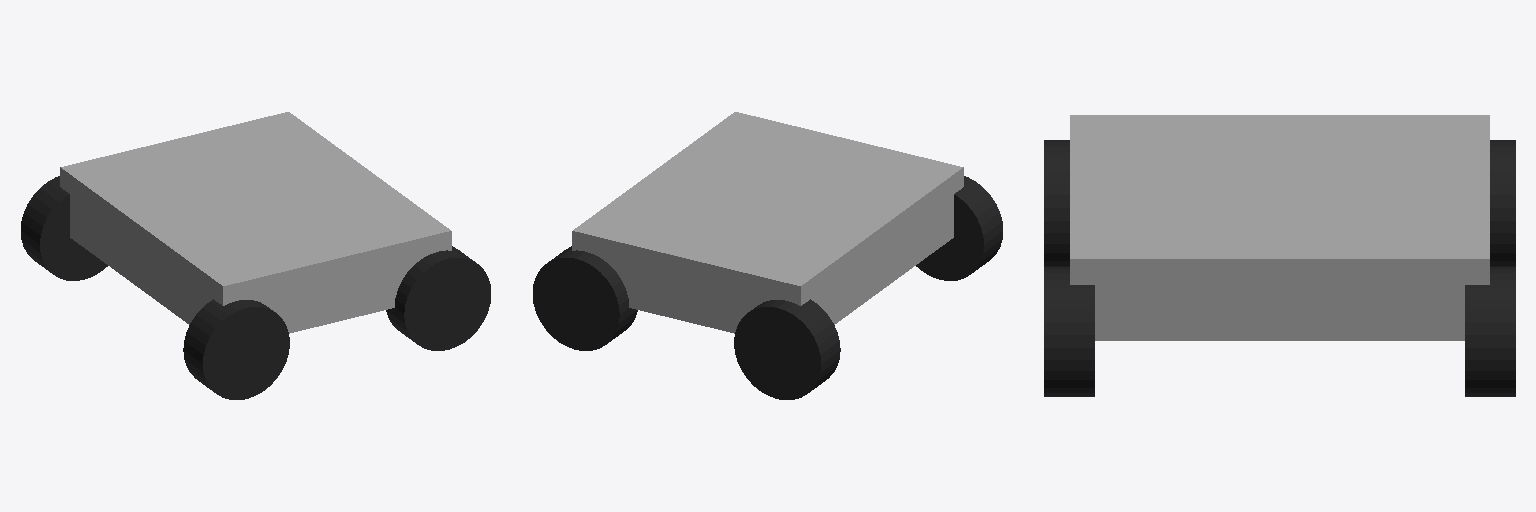
robot.urdf — evolved_robot:
<?xml version="1.0"?>
<robot name="evolved_robot">
  <material name="metal">
    <color rgba="0.7 0.7 0.7 1.0"/>
  </material>
  <material name="plastic">
    <color rgba="0.3 0.3 0.9 1.0"/>
  </material>
  <material name="rubber">
    <color rgba="0.1 0.1 0.1 1.0"/>
  </material>
  <material name="red">
    <color rgba="1.0 0.0 0.0 1.0"/>
  </material>
  <material name="wheel_material">
    <color rgba="0.2 0.2 0.2 1.0"/>
  </material>
  <link name="base_link">
    <visual>
      <geometry><box size="0.33999999999999997 0.42000000000000004 0.09000000000000001"/></geometry>
      <material name="metal"/>
    </visual>
    <collision>
      <geometry><box size="0.33999999999999997 0.42000000000000004 0.09000000000000001"/></geometry>
    </collision>
    <inertial>
      <mass value="5.0"/>
      <inertia ixx="0.15375000000000003" ixy="0" ixz="0" 
               iyy="0.1030833333333333" iyz="0" 
               izz="0.24333333333333337"/>
    </inertial>
  </link>
  <link name="link1">
    <visual>
      <geometry>
        <cylinder radius="0.065" length="0.05"/>
      </geometry>
      <material name="wheel_material"/>
    </visual>
    <collision>
      <geometry>
        <cylinder radius="0.065" length="0.05"/>
      </geometry>
    </collision>
    <inertial>
      <mass value="1.0"/>
      <inertia ixx="0.0012645833333333335" ixy="0" ixz="0" 
               iyy="0.0012645833333333335" iyz="0" 
               izz="0.0021125000000000002"/>
    </inertial>
  </link>
  <joint name="joint1" type="continuous">
    <parent link="base_link"/>
    <child link="link1"/>
    <origin xyz="0.15 0.21000000000000002 -0.045000000000000005" rpy="1.5708 0 0"/>
    <axis xyz="0 1 0"/>
    <dynamics damping="1.0" friction="0.1"/>
  </joint>
  <link name="link2">
    <visual>
      <geometry>
        <cylinder radius="0.065" length="0.05"/>
      </geometry>
      <material name="wheel_material"/>
    </visual>
    <collision>
      <geometry>
        <cylinder radius="0.065" length="0.05"/>
      </geometry>
    </collision>
    <inertial>
      <mass value="1.0"/>
      <inertia ixx="0.0012645833333333335" ixy="0" ixz="0" 
               iyy="0.0012645833333333335" iyz="0" 
               izz="0.0021125000000000002"/>
    </inertial>
  </link>
  <joint name="joint2" type="continuous">
    <parent link="base_link"/>
    <child link="link2"/>
    <origin xyz="0.15 -0.21000000000000002 -0.045000000000000005" rpy="1.5708 0 0"/>
    <axis xyz="0 1 0"/>
    <dynamics damping="1.0" friction="0.1"/>
  </joint>
  <link name="link3">
    <visual>
      <geometry>
        <cylinder radius="0.065" length="0.05"/>
      </geometry>
      <material name="wheel_material"/>
    </visual>
    <collision>
      <geometry>
        <cylinder radius="0.065" length="0.05"/>
      </geometry>
    </collision>
    <inertial>
      <mass value="1.0"/>
      <inertia ixx="0.0012645833333333335" ixy="0" ixz="0" 
               iyy="0.0012645833333333335" iyz="0" 
               izz="0.0021125000000000002"/>
    </inertial>
  </link>
  <joint name="joint3" type="continuous">
    <parent link="base_link"/>
    <child link="link3"/>
    <origin xyz="-0.15 0.21000000000000002 -0.045000000000000005" rpy="1.5708 0 0"/>
    <axis xyz="0 1 0"/>
    <dynamics damping="1.0" friction="0.1"/>
  </joint>
  <link name="link4">
    <visual>
      <geometry>
        <cylinder radius="0.065" length="0.05"/>
      </geometry>
      <material name="wheel_material"/>
    </visual>
    <collision>
      <geometry>
        <cylinder radius="0.065" length="0.05"/>
      </geometry>
    </collision>
    <inertial>
      <mass value="1.0"/>
      <inertia ixx="0.0012645833333333335" ixy="0" ixz="0" 
               iyy="0.0012645833333333335" iyz="0" 
               izz="0.0021125000000000002"/>
    </inertial>
  </link>
  <joint name="joint4" type="continuous">
    <parent link="base_link"/>
    <child link="link4"/>
    <origin xyz="-0.15 -0.21000000000000002 -0.045000000000000005" rpy="1.5708 0 0"/>
    <axis xyz="0 1 0"/>
    <dynamics damping="0.1" friction="0.1"/>
  </joint>
</robot>

--- Facts derived from the render (not from the file) ---
The picture shows the robot from 3 angles, left to right: view 1: azimuth 30°, elevation 25°; view 2: azimuth 150°, elevation 25°; view 3: azimuth 270°, elevation 25°; orthographic projection.
Model evolved_robot with 5 links and 4 joints (4 continuous), rooted at base_link, posed every joint at zero.
Links seen in each view (by area): view 1: base_link, link4, link2, link3; view 2: base_link, link3, link1, link4; view 3: base_link, link1, link2, link3, link4.
Boxes of the visible links, left/top/right/bottom form: base_link: left=60, top=112, right=451, bottom=333; link4: left=183, top=299, right=289, bottom=399; link2: left=386, top=246, right=490, bottom=350; link3: left=21, top=176, right=107, bottom=280; base_link: left=572, top=112, right=963, bottom=333; link3: left=734, top=299, right=840, bottom=399; link1: left=533, top=246, right=637, bottom=350; link4: left=916, top=176, right=1002, bottom=280; base_link: left=1070, top=115, right=1489, bottom=340; link1: left=1465, top=267, right=1515, bottom=396; link2: left=1044, top=267, right=1094, bottom=396; link3: left=1490, top=140, right=1515, bottom=266; link4: left=1044, top=140, right=1069, bottom=266.
Bounding box of the posed robot: 0.43 × 0.47 × 0.155 m (x, y, z).
Geometry: primitives only (box / cylinder / sphere), no mesh files.